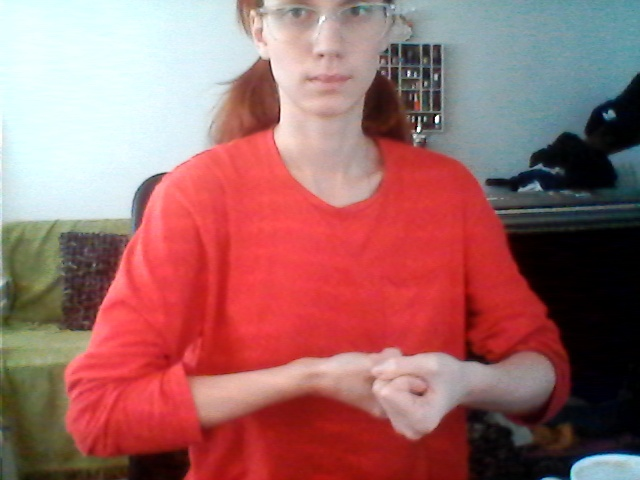hasic: (310, 316, 502, 454)
